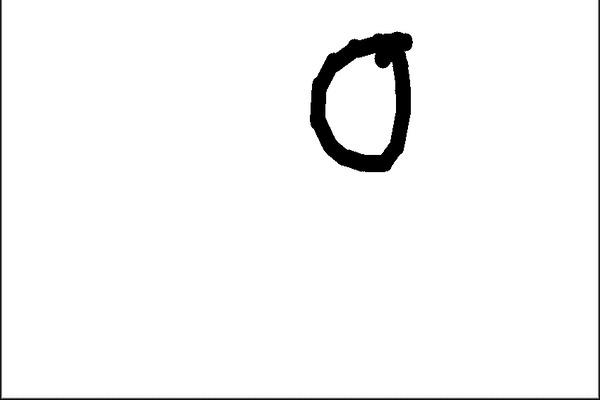O: (289, 21, 420, 179)
